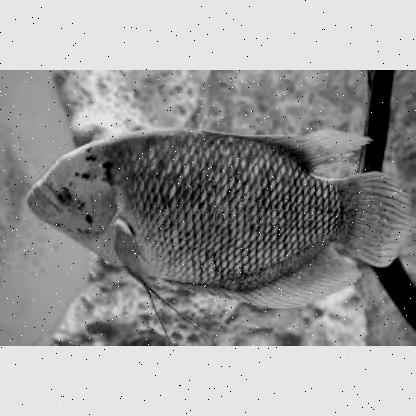gurame: (27, 127, 411, 310)
